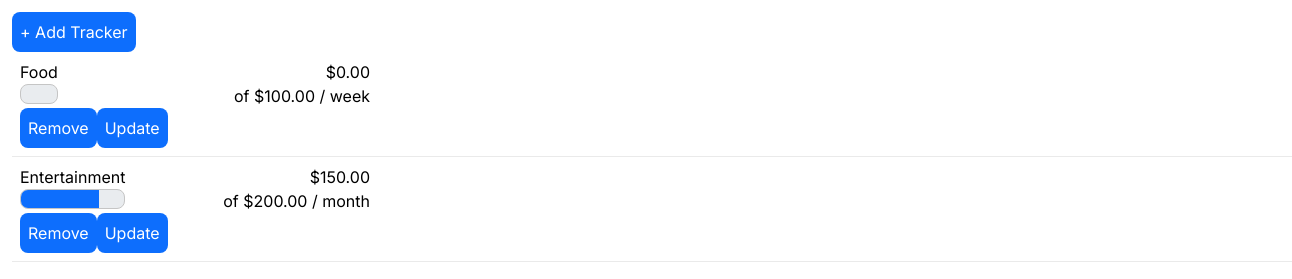
Test: TrackersListController › REMOVE: can remove tracker
Expected: the heading "Food" is shown, [20,60,58,84]
Step 1. Click the button "Remove" below "Food" → (58, 128), box [20,108,97,148]
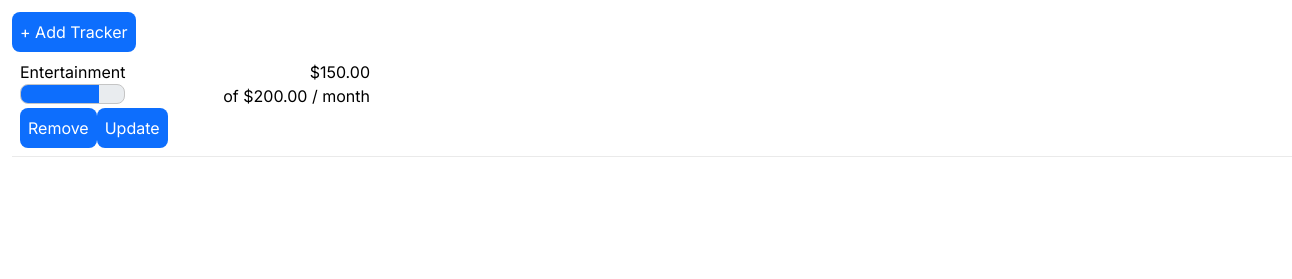
Expected: the heading "Food" is gone
